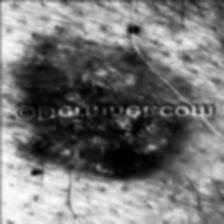Potentially Malignant Skin Tumors: (23, 118, 178, 178), (14, 38, 167, 98)
